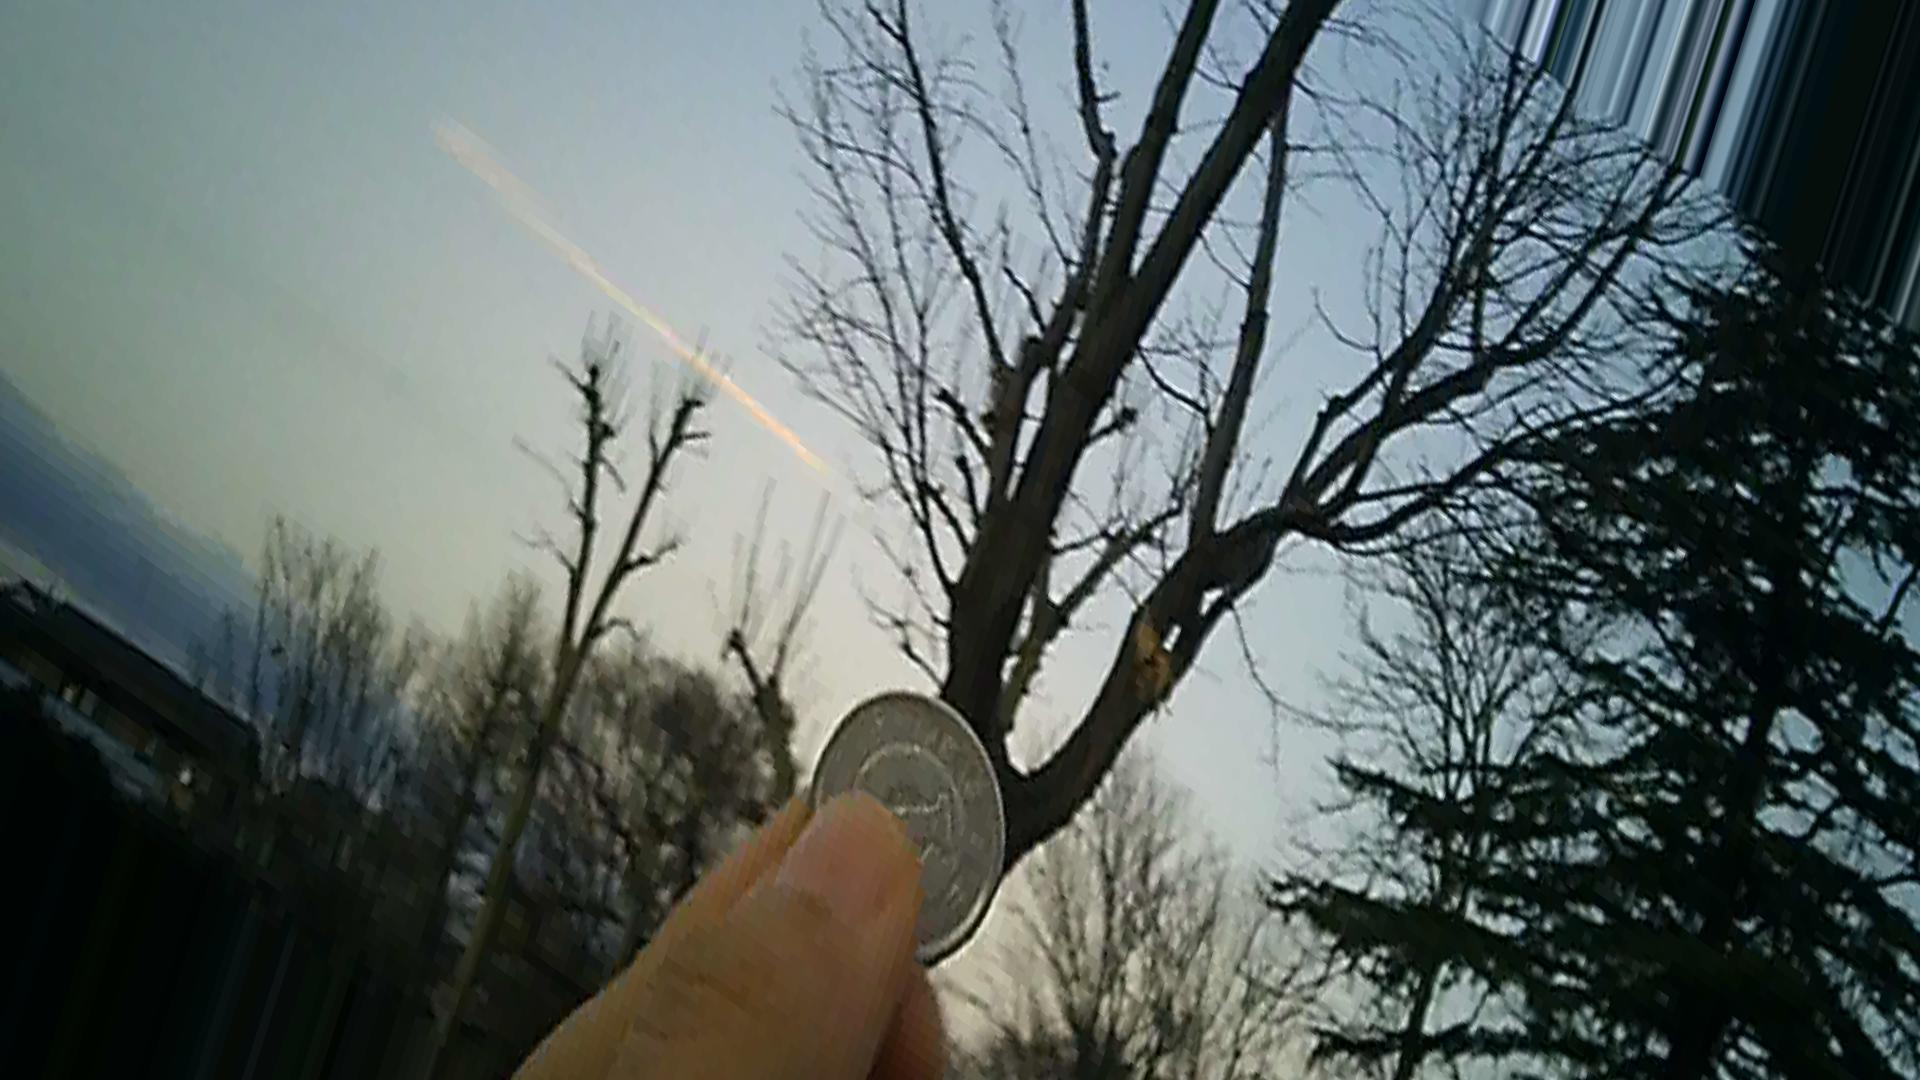1 Yen: (795, 678, 1029, 978)
